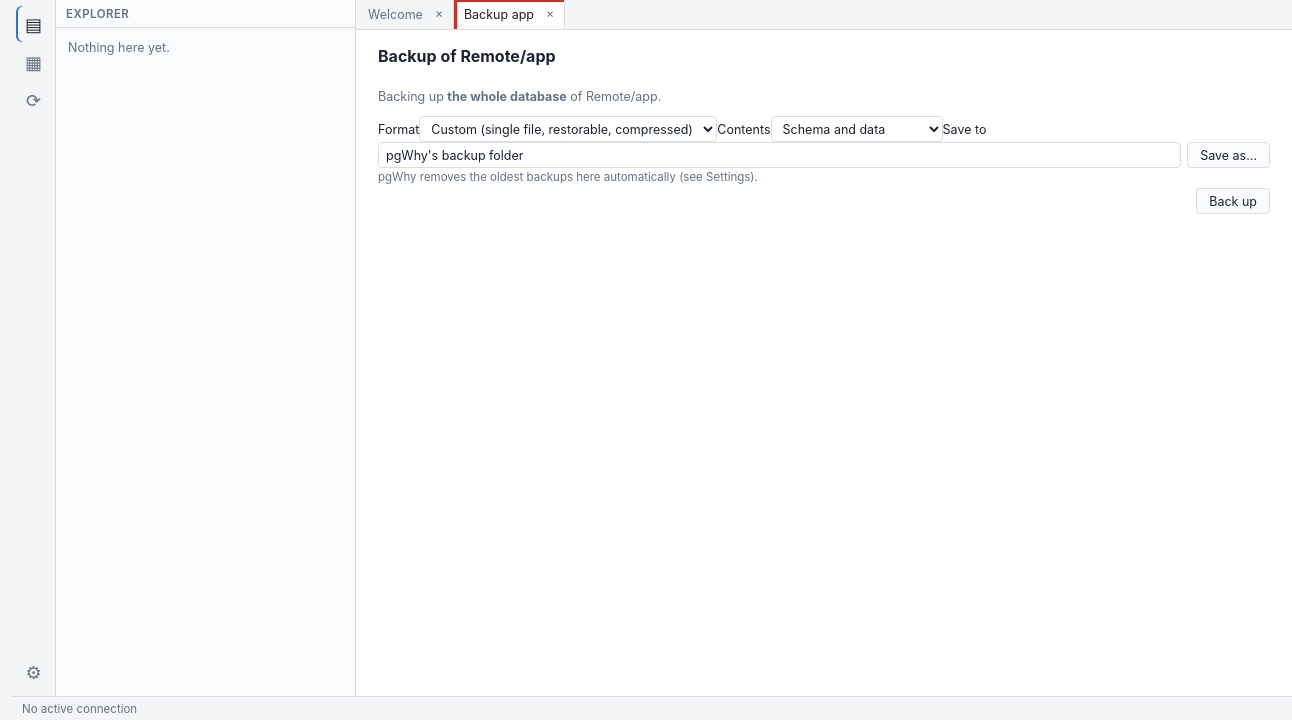
Scenario: save as › can go back to the backup folder, and a format change clears the choice
Check: the text "Backing up the whole database of Remote/app." is shown, box [378,88,661,104]
Click the button "Save as…" at (1229, 155), box [1187,142,1270,168]
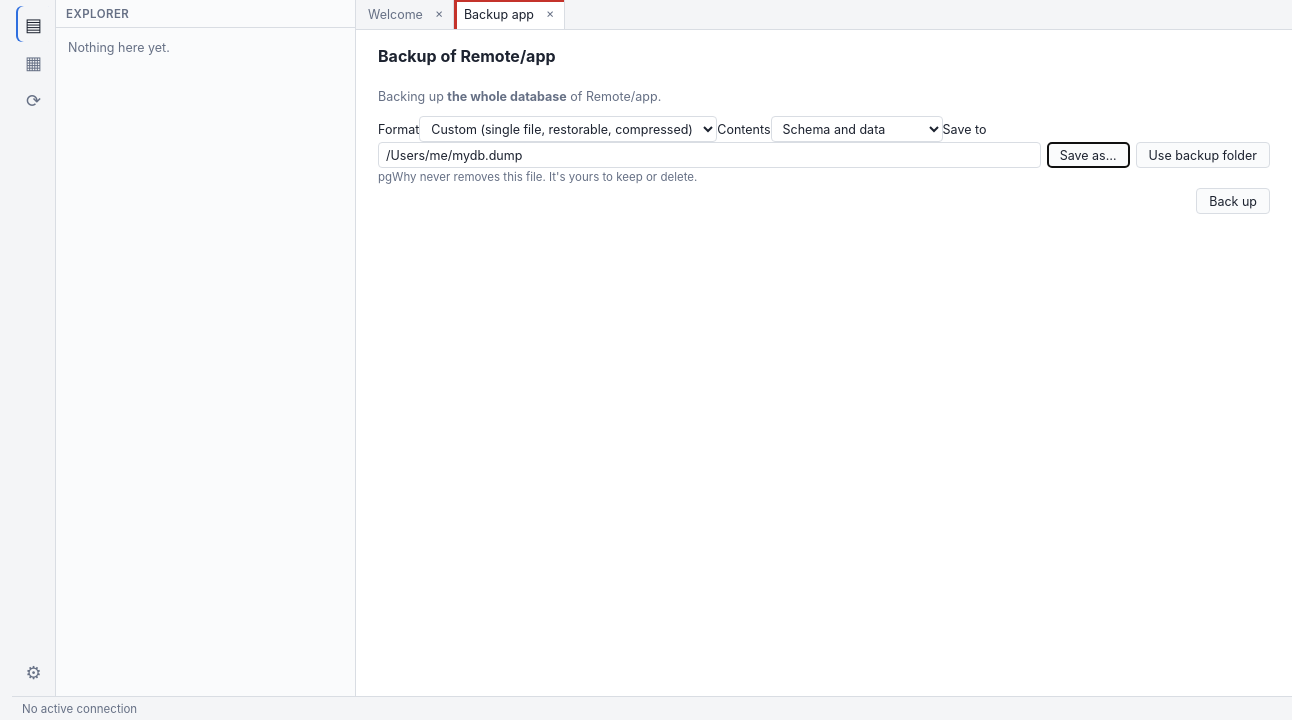
Check: the field showing "/Users/me/mydb.dump" is shown, box [378,142,1041,168]
Click the button "Use backup folder" at (1203, 155), box [1136,142,1270,168]
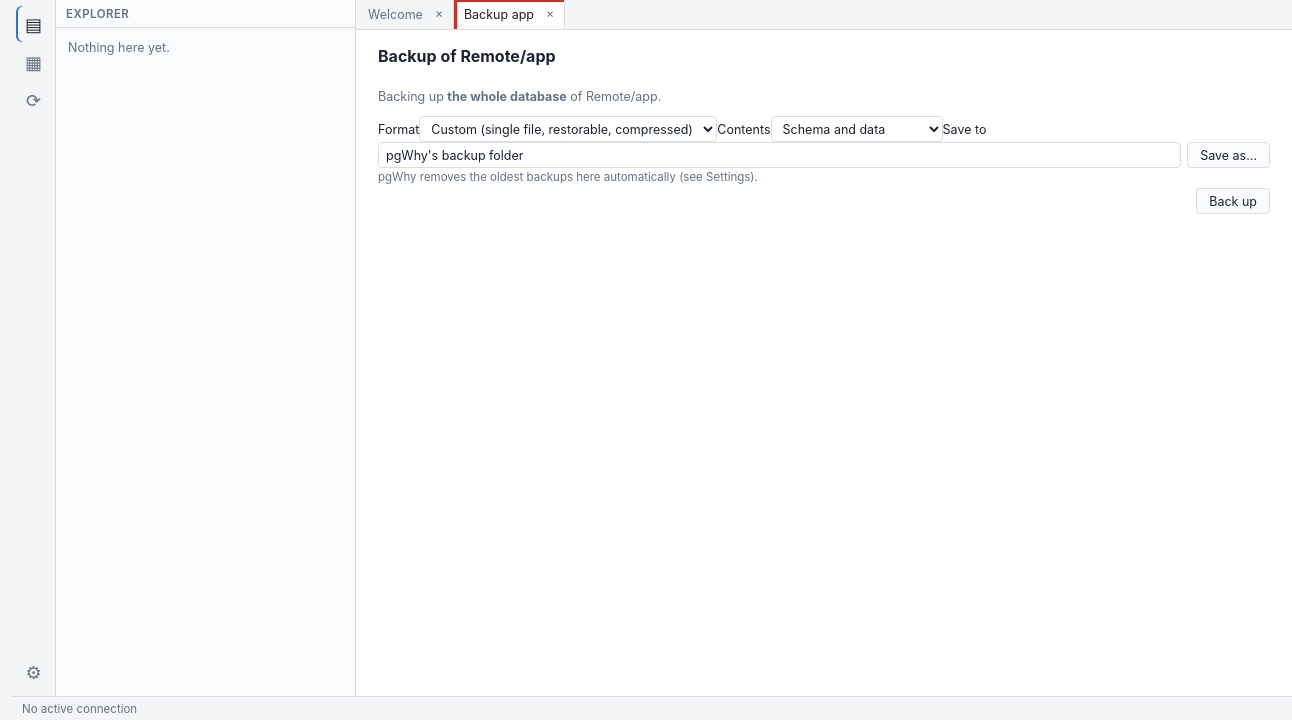
Check: the field showing "/Users/me/mydb.dump" holds "pgWhy's backup folder", box [378,142,1181,168]
Click the button "Save as…" at (1229, 155), box [1187,142,1270,168]
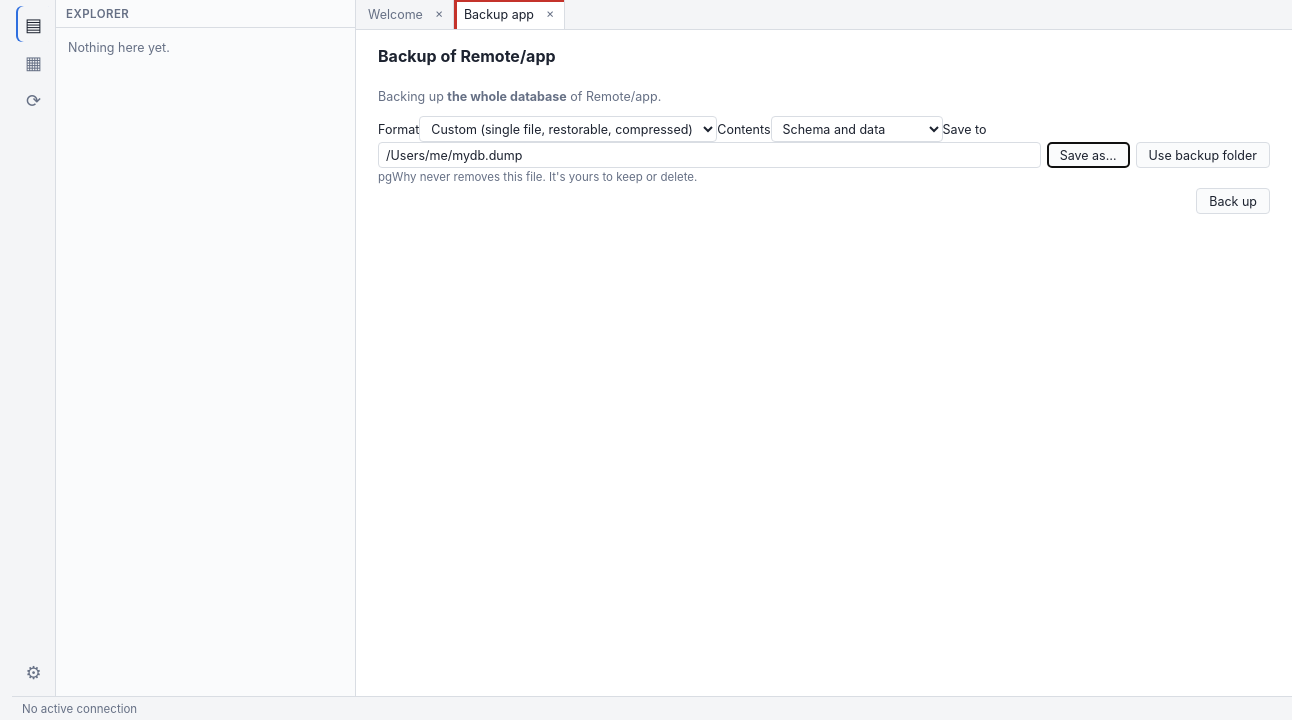
Check: the field showing "/Users/me/mydb.dump" is shown, box [378,142,1041,168]
Select "Directory (parallel, larger)" in the dropdown named "backup format" at (568, 129), box [419,116,717,142]
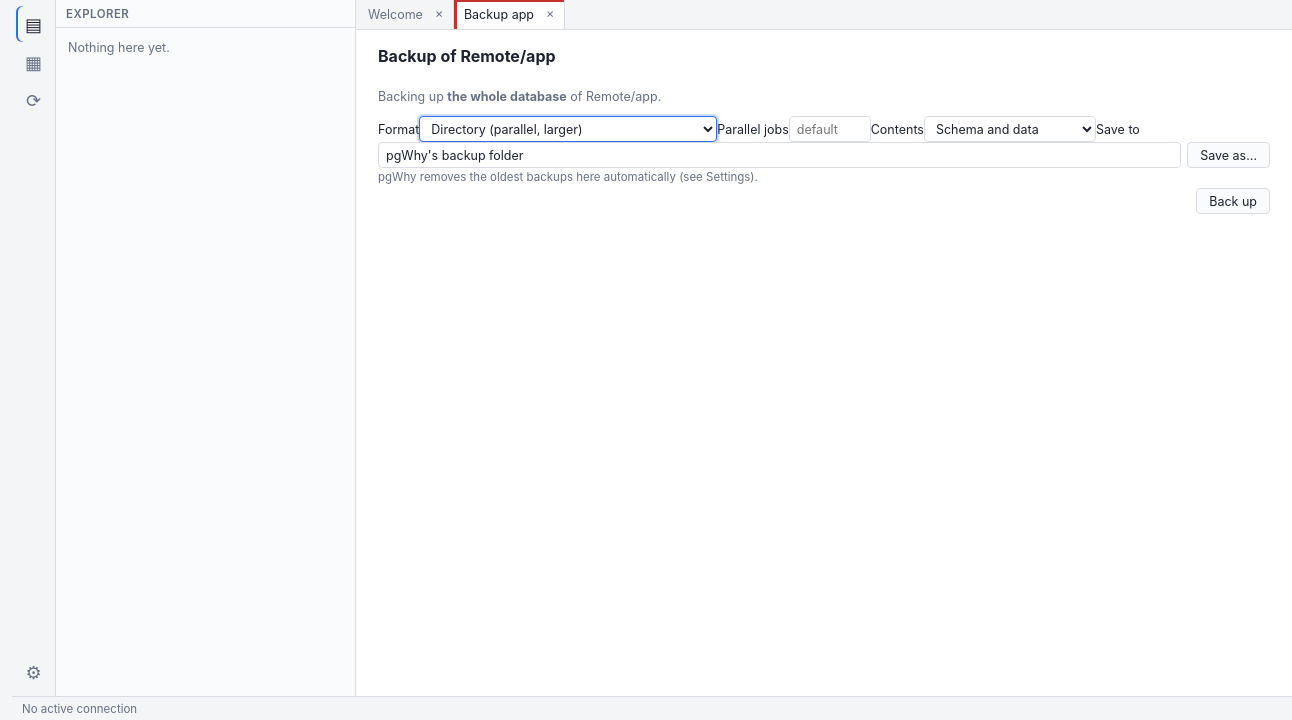
Check: the field showing "/Users/me/mydb.dump" holds "pgWhy's backup folder", box [378,142,1181,168]
